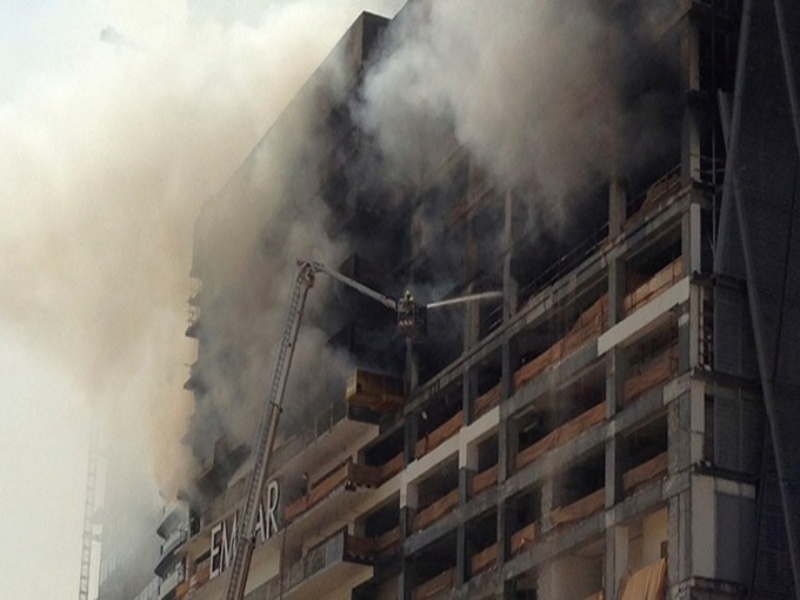smoke: (209, 1, 646, 217)
